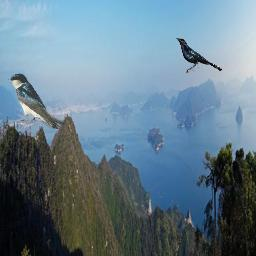Crow: (176, 38, 222, 73)
Swallow: (8, 73, 66, 129)
